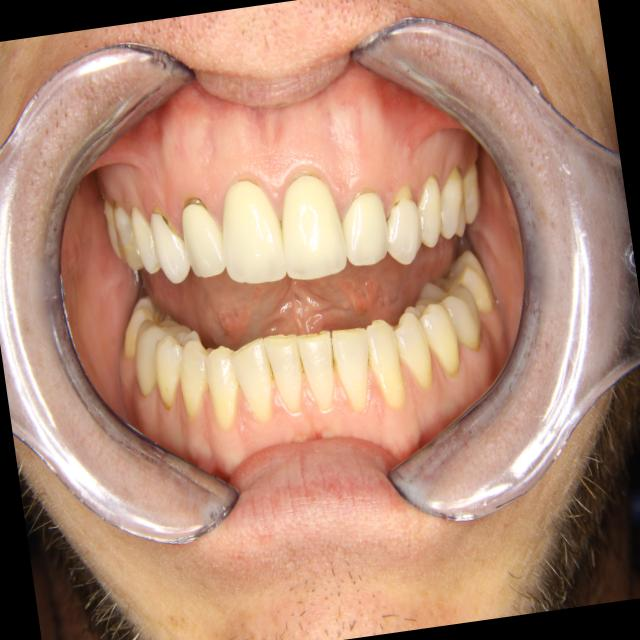tooth: (211, 161, 293, 295), (272, 163, 353, 287), (122, 309, 202, 402), (411, 268, 488, 363), (403, 295, 468, 389), (261, 318, 314, 431), (198, 330, 252, 438), (333, 184, 396, 271), (360, 312, 412, 415), (328, 316, 380, 418), (439, 240, 502, 323), (176, 189, 232, 282), (229, 329, 282, 427), (376, 178, 430, 270), (294, 320, 343, 419), (172, 331, 222, 425), (385, 307, 438, 395), (146, 199, 195, 291), (146, 332, 196, 412), (115, 290, 167, 364), (430, 156, 473, 244), (108, 193, 148, 281), (409, 168, 450, 252), (126, 197, 167, 279), (454, 147, 488, 226), (97, 191, 130, 266)
